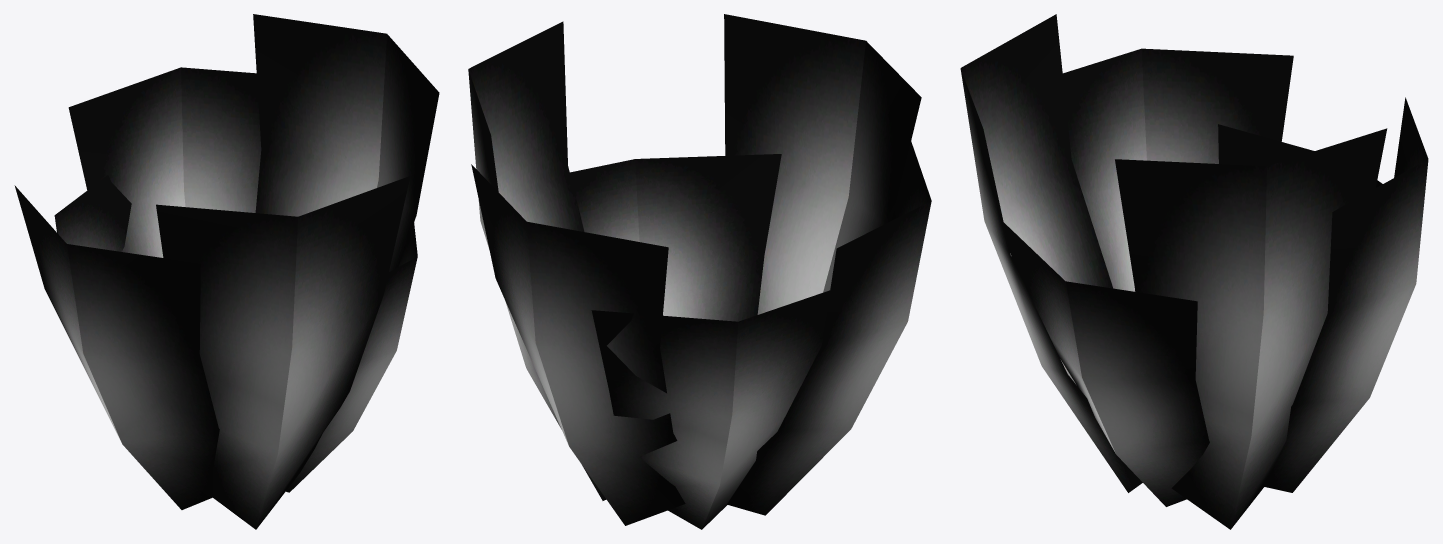
File: vfx_kurp_0591.dae
3 renders of one model, left to right at view 1: azimuth 30°, elevation 25°; view 2: azimuth 150°, elevation 25°; view 3: azimuth 270°, elevation 25°, orthographic. The views are drawn at different scales.
Parts seen in each view (by area): view 1: vfx_kurp_0591; view 2: vfx_kurp_0591; view 3: vfx_kurp_0591.
Part boxes in pixels (left/top/right/bottom): vfx_kurp_0591: left=14, top=14, right=439, bottom=529; vfx_kurp_0591: left=468, top=14, right=931, bottom=529; vfx_kurp_0591: left=960, top=14, right=1428, bottom=529.
Size of the model in its own units: 7.07 by 7.07 by 7.16.
1 material, 1 textured.
